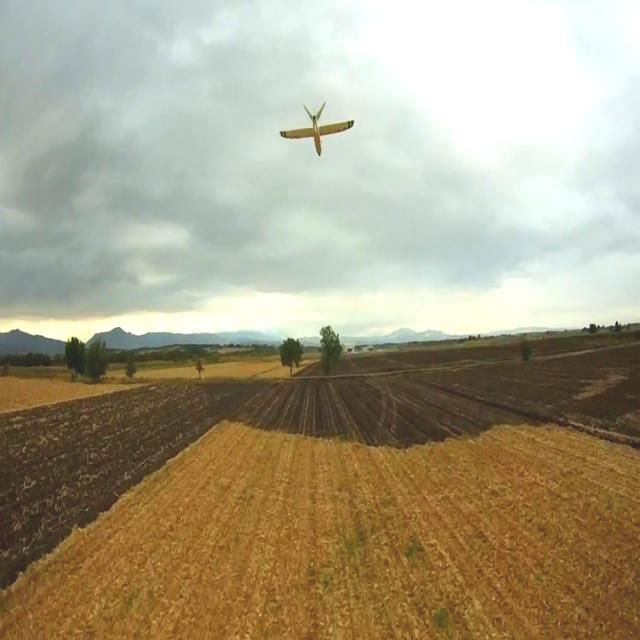iha: (306, 128, 328, 131)
